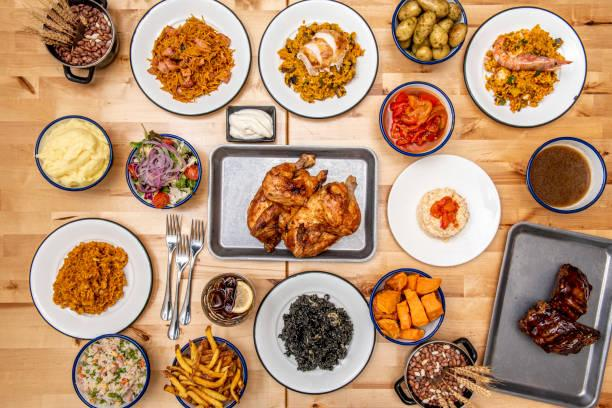Braised Crucian Carp: (478, 223, 610, 407), (207, 144, 374, 263), (462, 5, 586, 129), (251, 270, 373, 395), (28, 218, 153, 339), (257, 0, 378, 122), (127, 0, 248, 118), (387, 154, 501, 268), (525, 137, 605, 214), (369, 267, 446, 346), (33, 115, 113, 191), (395, 338, 481, 407), (379, 81, 456, 157), (124, 132, 199, 209), (71, 334, 150, 407), (169, 335, 248, 406), (391, 0, 468, 64), (45, 0, 115, 68)
